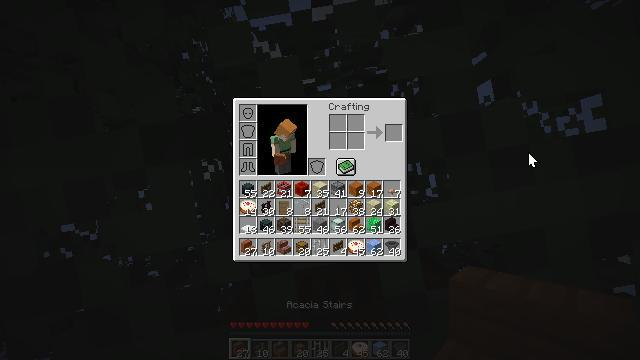cursor: (528, 152, 538, 168)
